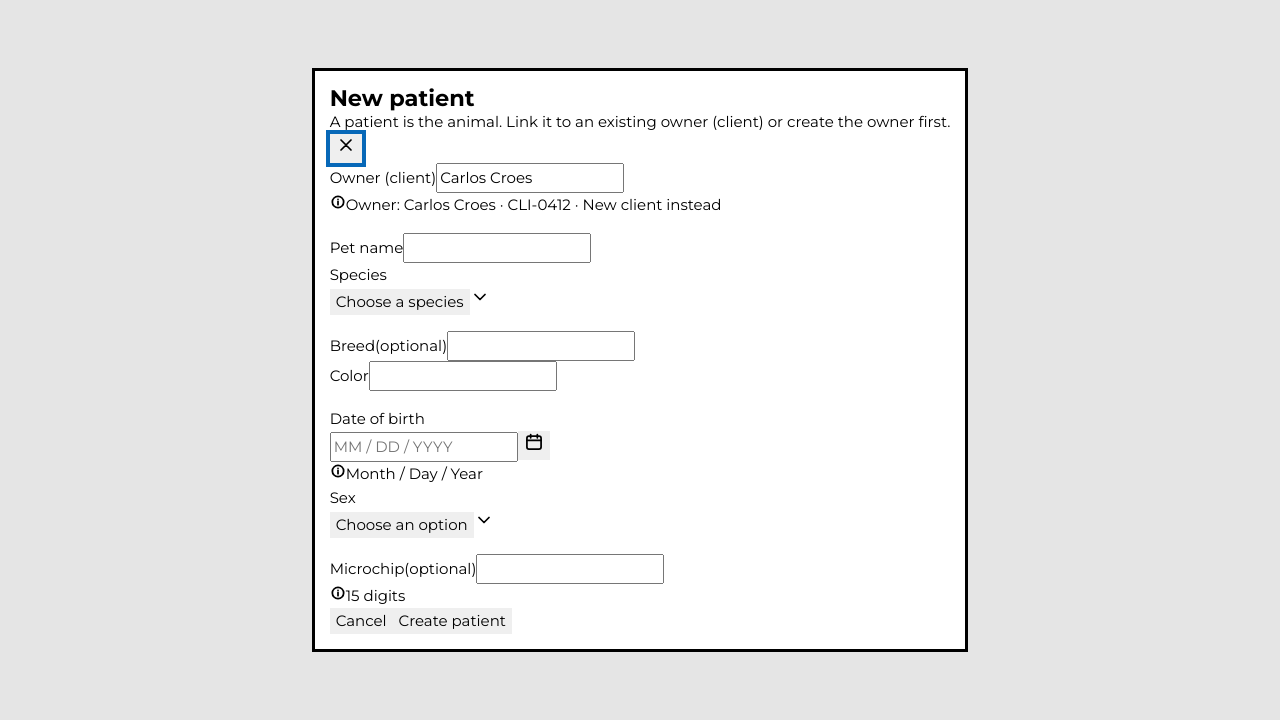
Scenario: PatientModal › does not accept a date of birth in the future
In the field labelled "Date of birth": [424, 447] box [330,432,518,462], type "03012027"
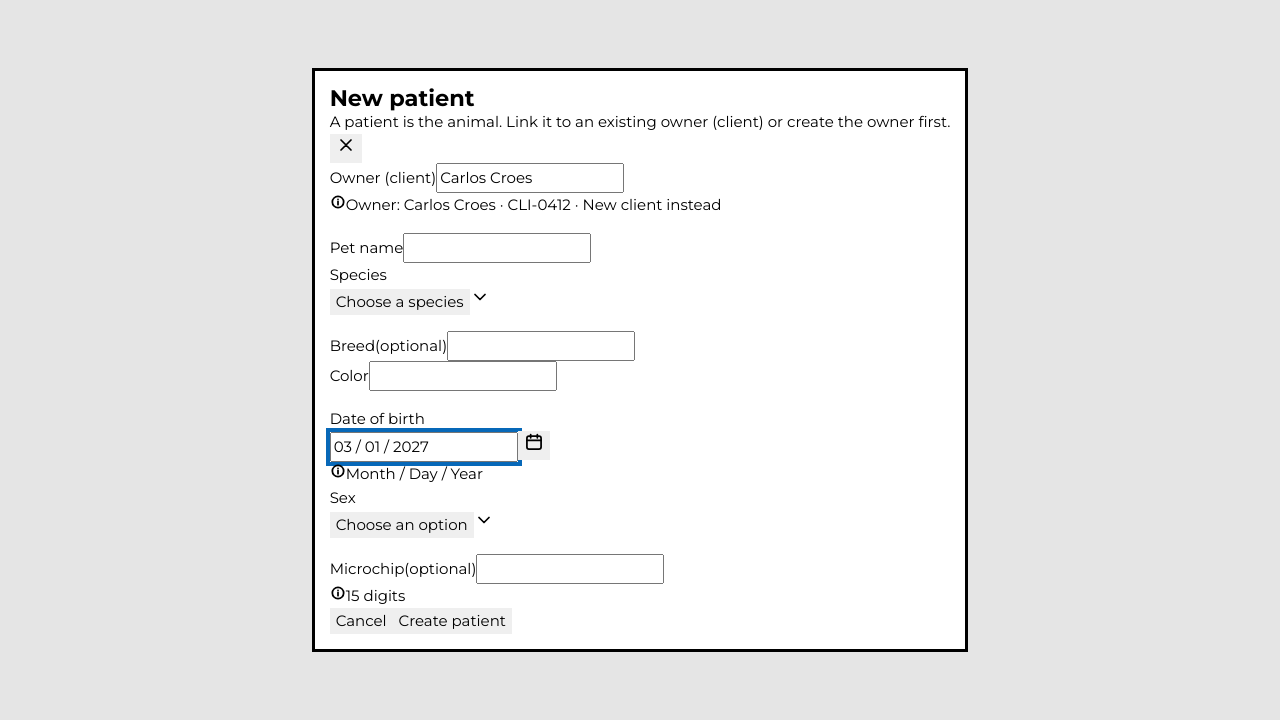
Click the button "Create patient": [452, 621] box [393,608,512,634]
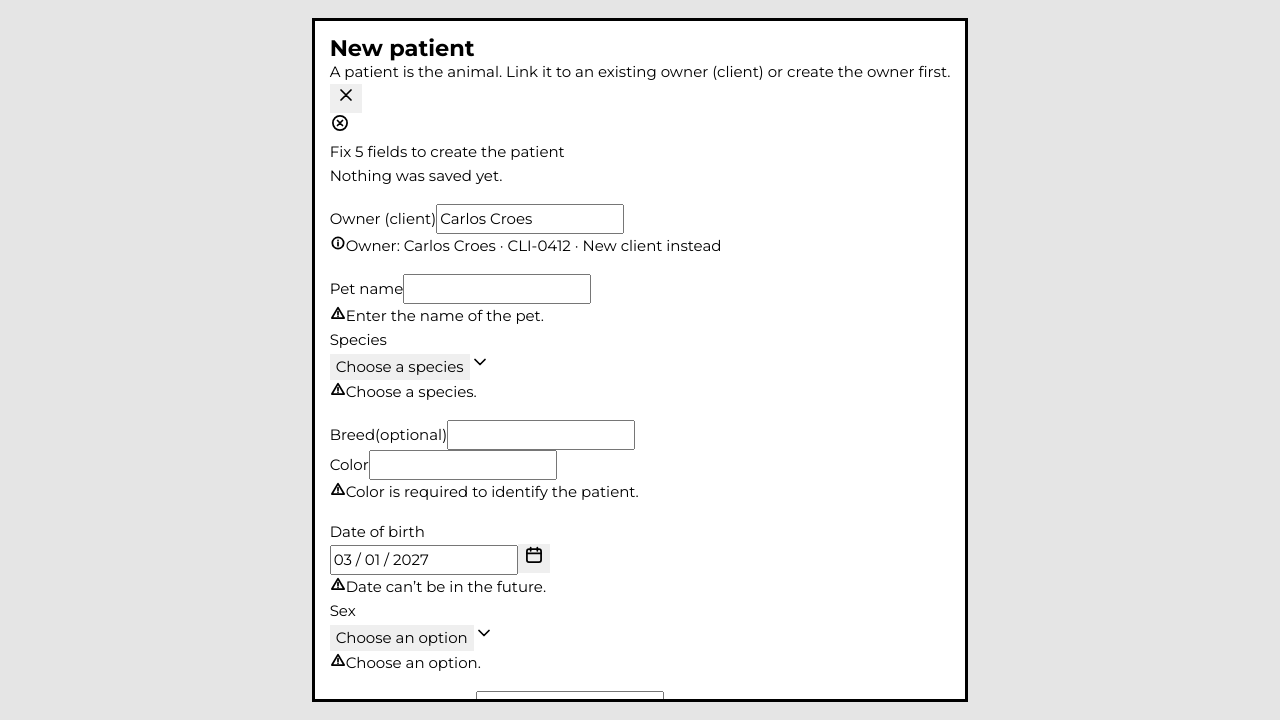
Now the text "Date can’t be in the future." is shown, box [346,577,546,596]
